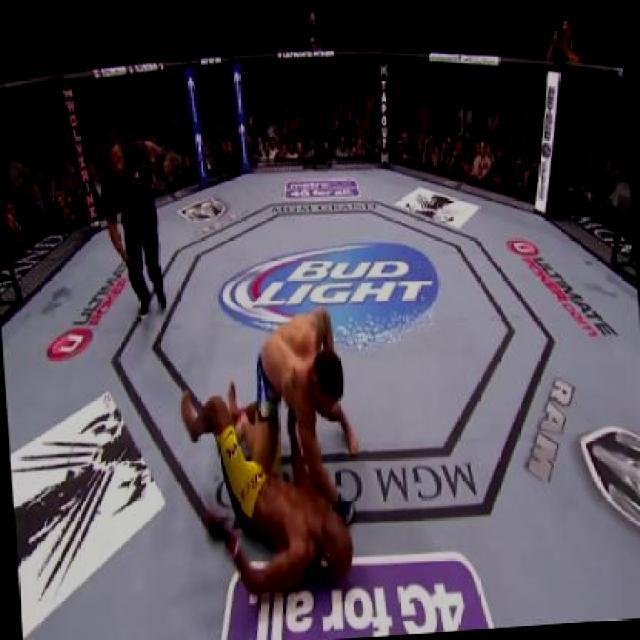fight: (173, 305, 370, 607)
